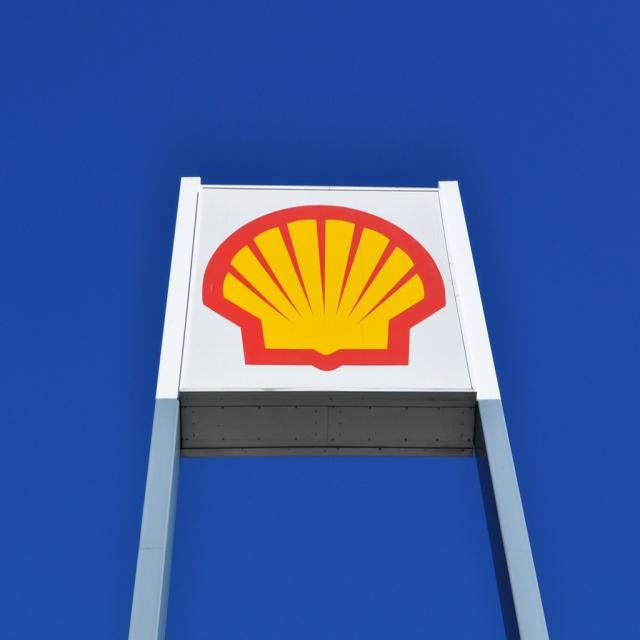shell: (199, 201, 449, 375)
